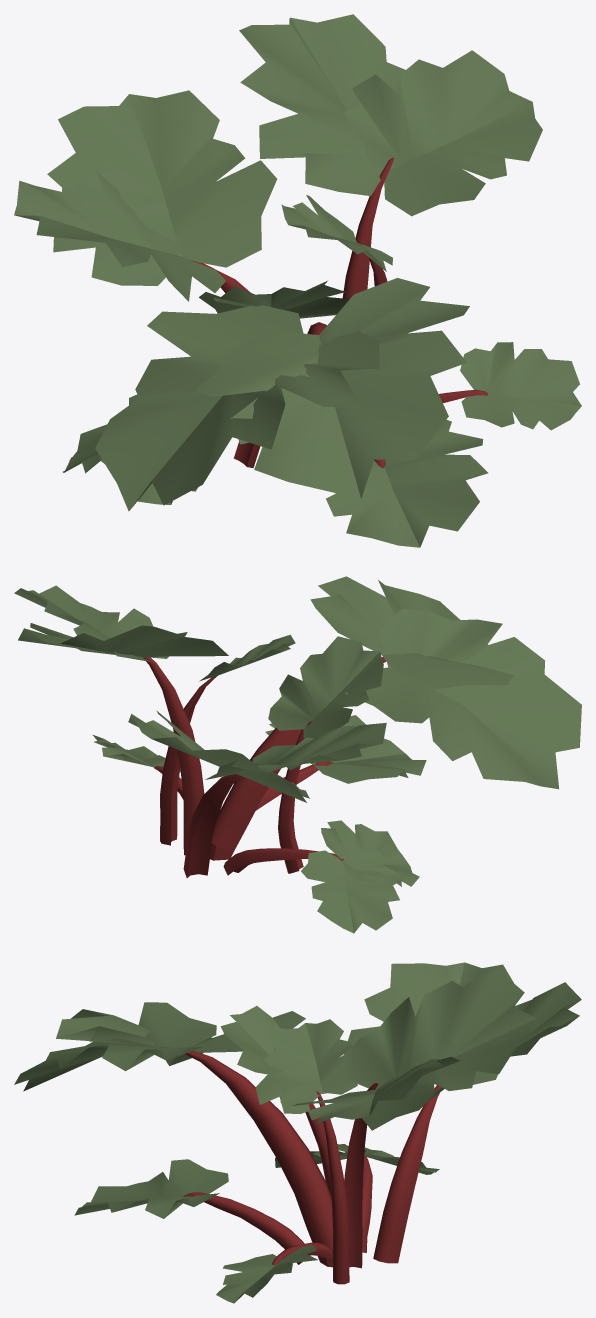
Rendered from PL_rhubarbStage5_01.fbx.
The picture shows the model from 3 angles, top to bottom: view 1: azimuth 30°, elevation 25°; view 2: azimuth 150°, elevation 25°; view 3: azimuth 270°, elevation 25°; orthographic projection. The views are drawn at different scales.
Parts seen in each view (by area): view 1: lod1; view 2: lod1; view 3: lod1.
Part boxes in pixels (left/top/right/bottom): lod1: left=14, top=14, right=581, bottom=547; lod1: left=14, top=576, right=581, bottom=933; lod1: left=14, top=962, right=581, bottom=1303.
Size of what is drawn, in the model's own units: 227 by 147 by 254.
Materials: 1 (1 with a texture image).
